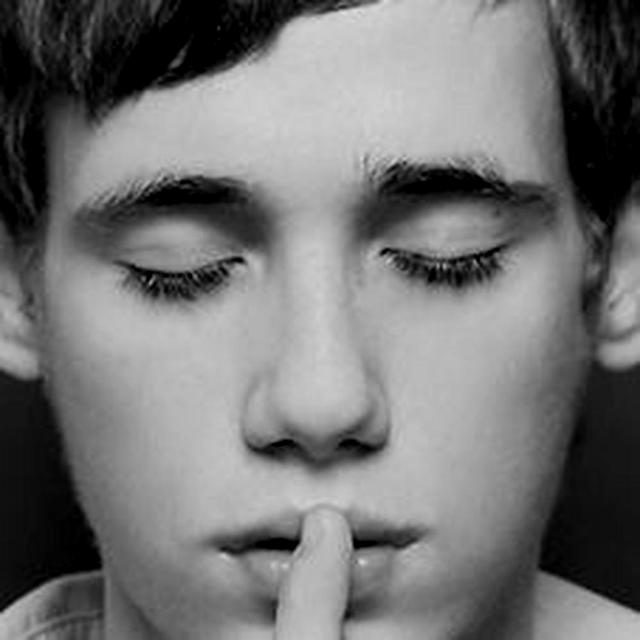real: (45, 30, 582, 634), (100, 168, 548, 324)
